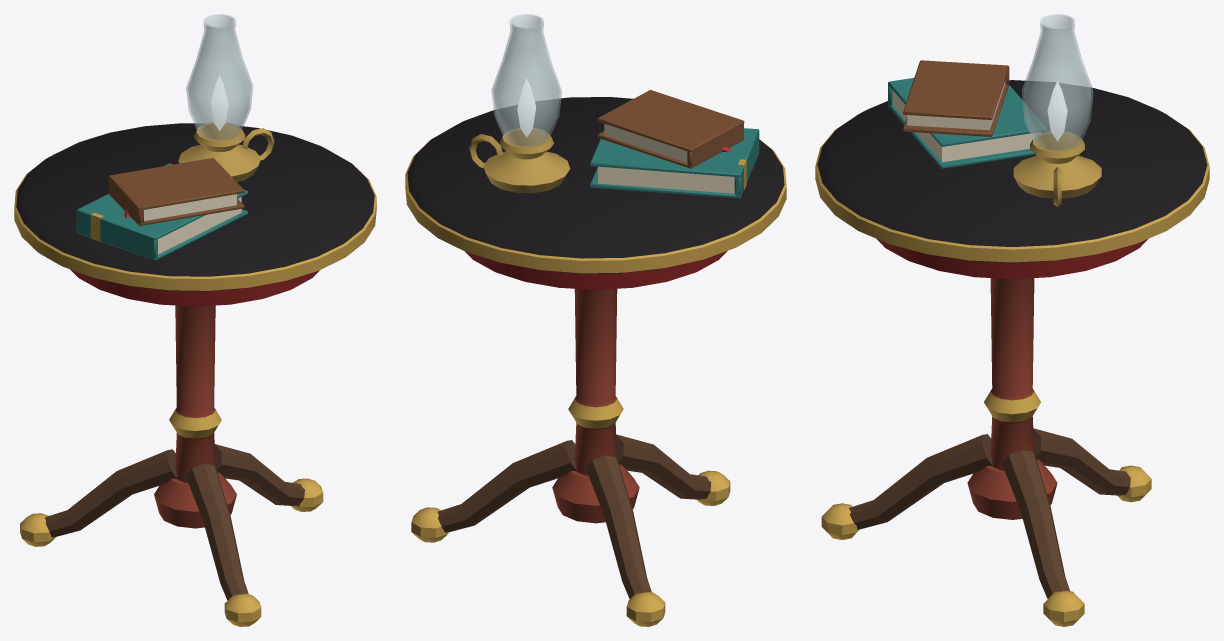
The model's file is deco_table_side.fbx.
The picture shows the model from 3 angles, left to right: view 1: azimuth 30°, elevation 25°; view 2: azimuth 150°, elevation 25°; view 3: azimuth 270°, elevation 25°; orthographic projection. The views are drawn at different scales.
Visible parts, largest first — view 1: Table_Side_Table, Table_Side_Book, Table_Side_Lamp; view 2: Table_Side_Table, Table_Side_Book, Table_Side_Lamp; view 3: Table_Side_Table, Table_Side_Book, Table_Side_Lamp.
Boxes of the visible parts, box(x1,y1,x2,y2) form: Table_Side_Table: box(14, 123, 376, 626); Table_Side_Book: box(76, 158, 247, 260); Table_Side_Lamp: box(178, 14, 274, 182); Table_Side_Table: box(405, 97, 786, 626); Table_Side_Book: box(590, 90, 759, 198); Table_Side_Lamp: box(469, 14, 570, 193); Table_Side_Table: box(815, 80, 1209, 626); Table_Side_Book: box(888, 60, 1046, 168); Table_Side_Lamp: box(1013, 14, 1101, 206).
Size of the model in its own units: 70 by 109 by 70.
